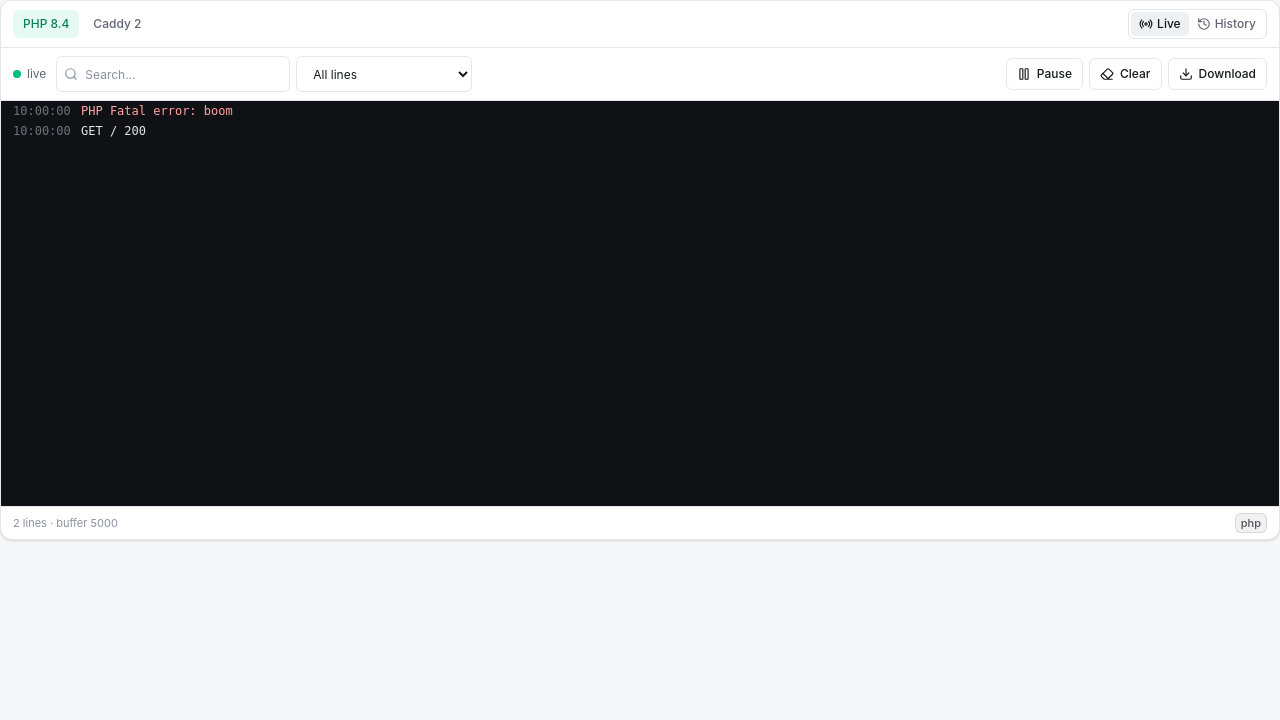
Test: LogsTab › colours levels and filters the live buffer by level
Expected: the text "PHP Fatal error: boom" is shown, top-left (81, 101), bottom-right (1279, 121)
Select "Errors only" in the dropdown named "Show" at coordinates (384, 74), box top-left (296, 56), bottom-right (472, 92)
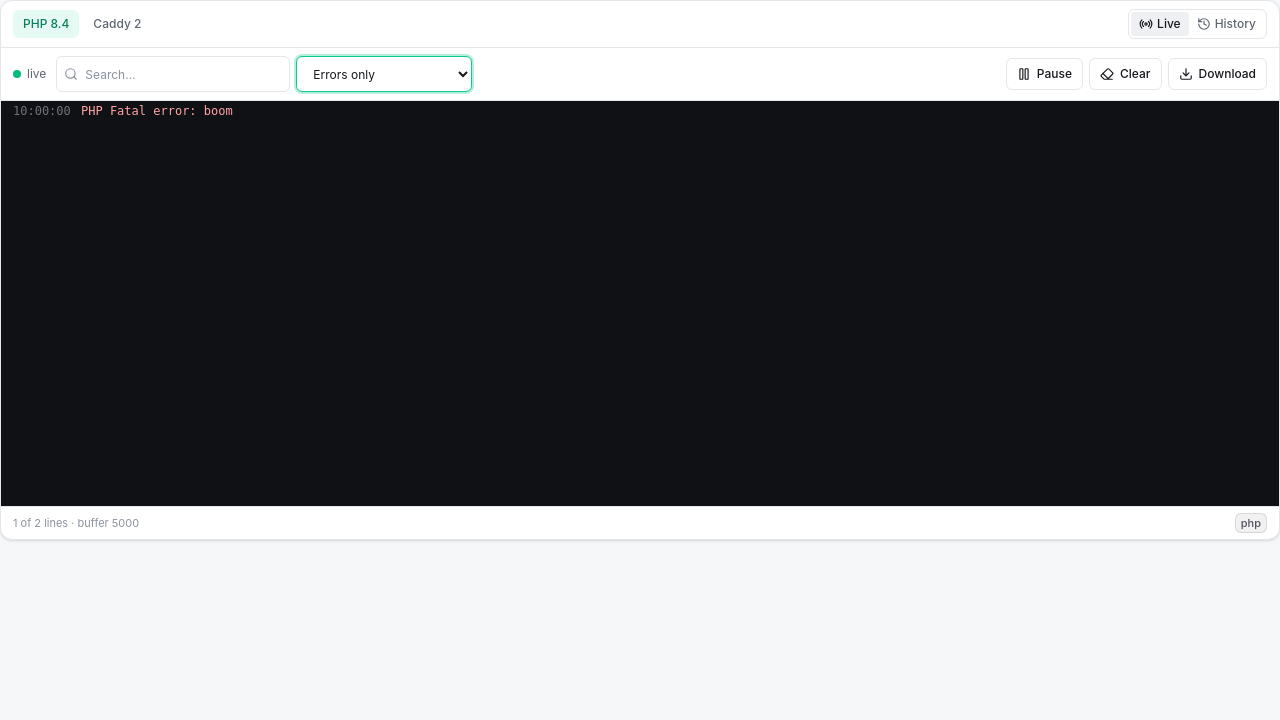
Now the text "GET / 200" is gone
